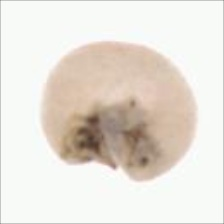L5: (57, 95, 164, 180)
L6: (36, 40, 201, 185)
